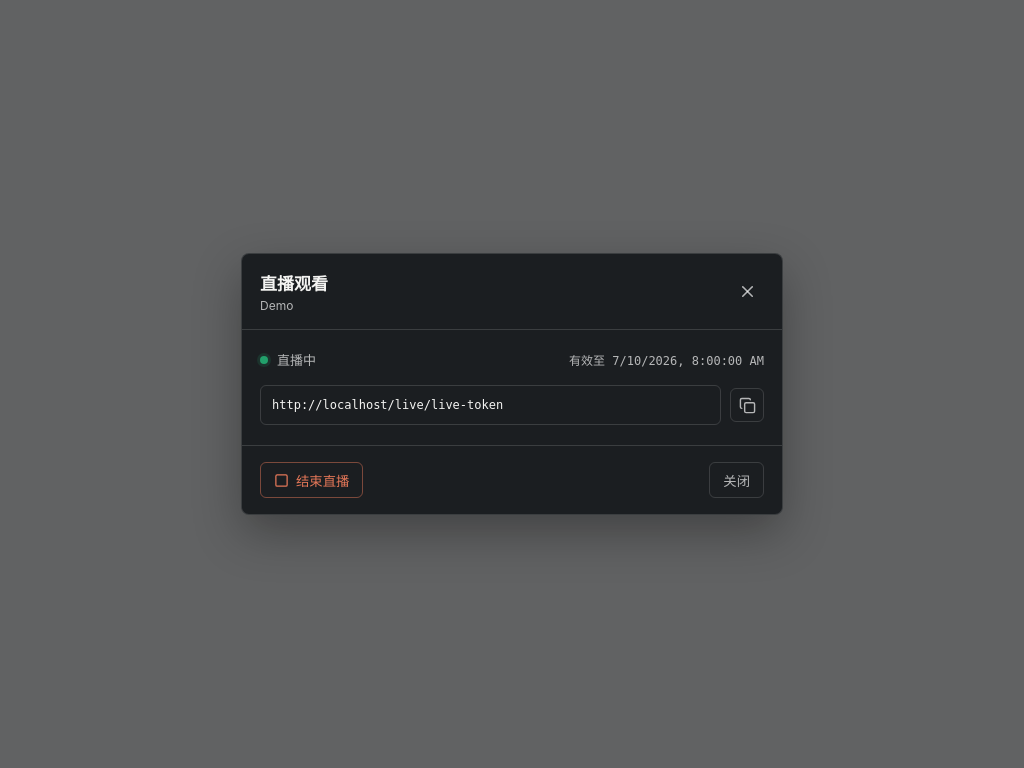
Test: LiveShareModal › 恢复现有直播并只结束当前令牌对应的会话
Click the button "结束直播": (312, 480) [260,462,363,498]
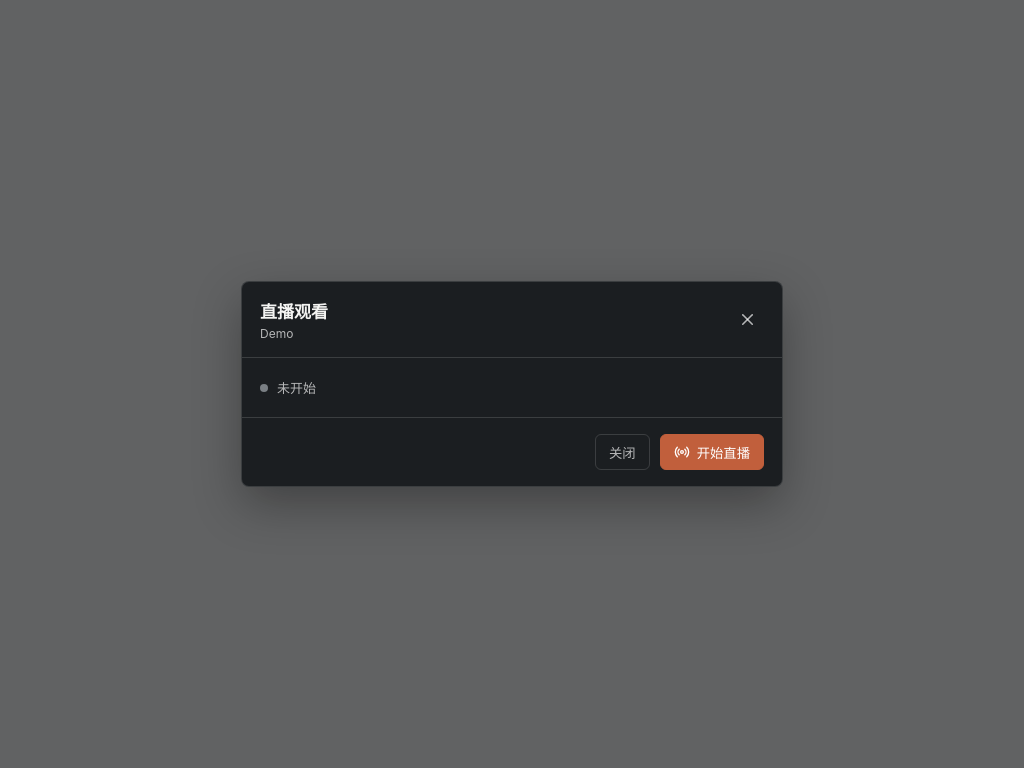
Expected: the text "未开始" is shown, [277,378,316,397]
